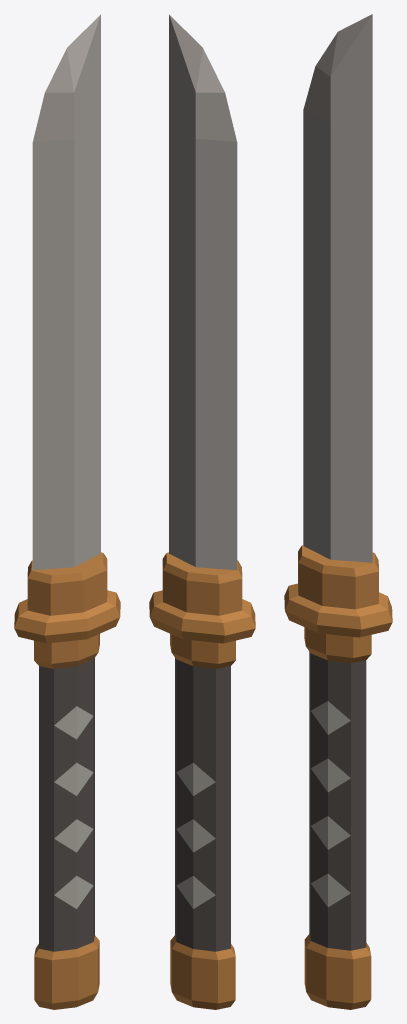
File: SM_pwe_china_dagger_02.fbx
3 renders of one model, left to right at view 1: azimuth 30°, elevation 25°; view 2: azimuth 150°, elevation 25°; view 3: azimuth 330°, elevation 25°, orthographic.
Parts seen in each view (by area): view 1: SM_pwe_china_dagger_02; view 2: SM_pwe_china_dagger_02; view 3: SM_pwe_china_dagger_02.
Boxes of the visible parts, <box> form: SM_pwe_china_dagger_02: <box>14,14,120,1009</box>; SM_pwe_china_dagger_02: <box>149,14,255,1009</box>; SM_pwe_china_dagger_02: <box>284,14,392,1009</box>.
Bounding box in the file's own units: 5.32 × 46.68 × 3.68.
